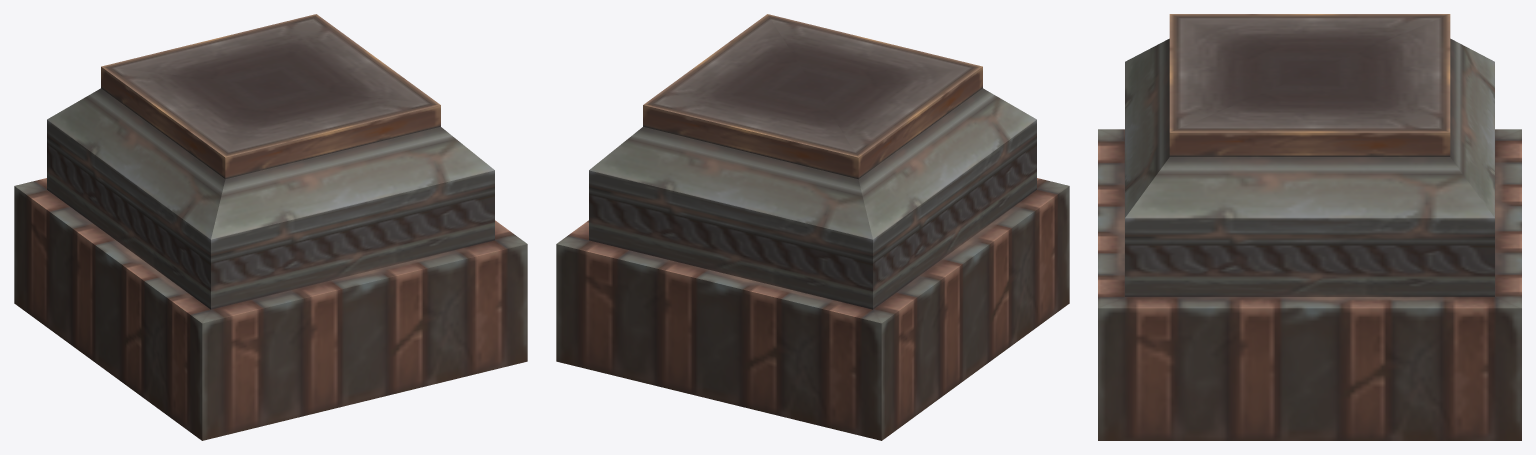
The model's file is zw_dengtai_new.FBX.
The picture shows the model from 3 angles, left to right: view 1: azimuth 30°, elevation 25°; view 2: azimuth 150°, elevation 25°; view 3: azimuth 270°, elevation 25°; orthographic projection. The views are drawn at different scales.
Parts seen in each view (by area): view 1: zw_dentai_n; view 2: zw_dentai_n; view 3: zw_dentai_n.
Boxes of the visible parts, box(x1,y1,x2,y2) form: zw_dentai_n: box(14, 14, 527, 440); zw_dentai_n: box(556, 14, 1069, 440); zw_dentai_n: box(1098, 14, 1521, 440).
Size of the model in its own units: 261 by 189 by 261.
